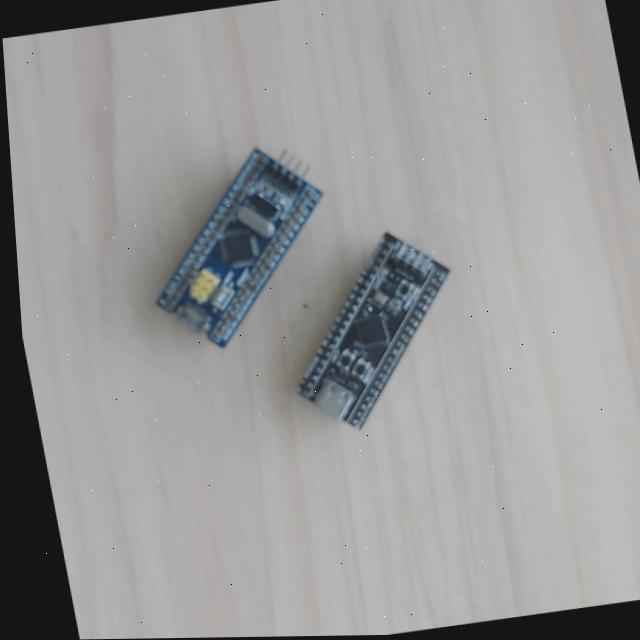STM32-Blackpill: (293, 230, 449, 430)
STM32-Bluepill: (152, 146, 324, 349)
